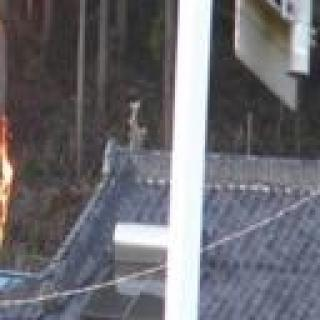fire: (0, 0, 13, 277)
